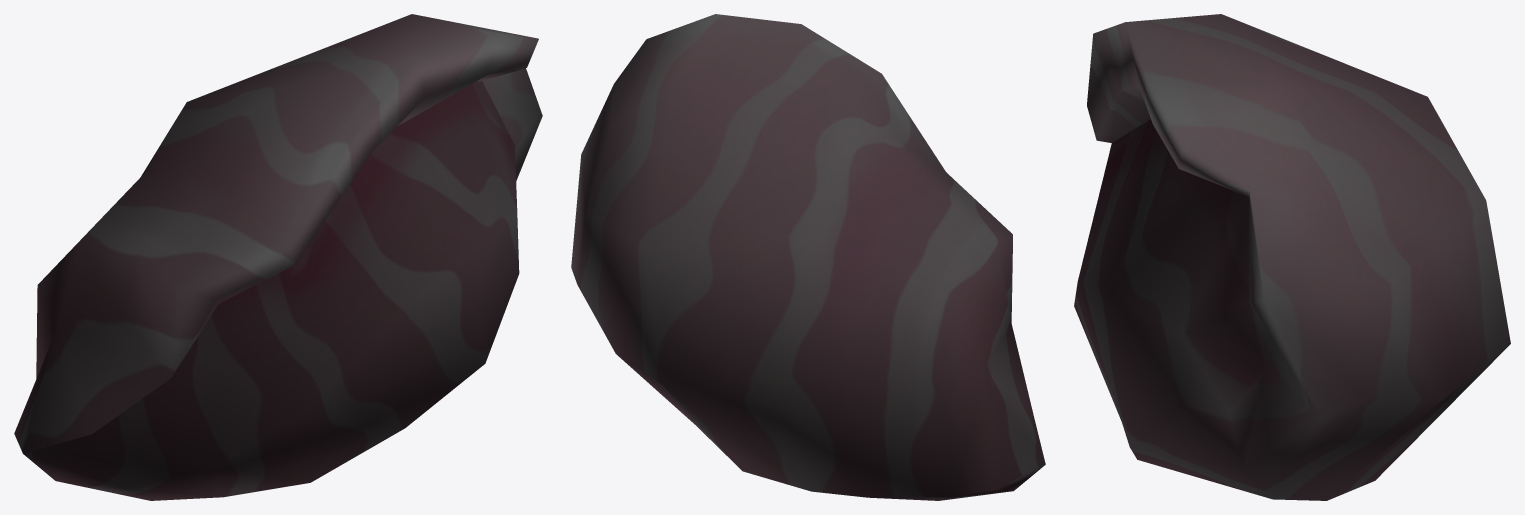
The model's file is obj_harvest_resource_slimyclam_lod1.fbx.
The picture shows the model from 3 angles, left to right: view 1: azimuth 30°, elevation 25°; view 2: azimuth 150°, elevation 25°; view 3: azimuth 270°, elevation 25°; orthographic projection. The views are drawn at different scales.
Parts seen in each view (by area): view 1: obj_harvest_resource_slimyclam; view 2: obj_harvest_resource_slimyclam; view 3: obj_harvest_resource_slimyclam.
Boxes of the visible parts, left/top/right/bottom form: obj_harvest_resource_slimyclam: left=14, top=14, right=542, bottom=500; obj_harvest_resource_slimyclam: left=571, top=14, right=1045, bottom=500; obj_harvest_resource_slimyclam: left=1074, top=14, right=1510, bottom=500.
Bounding box in the file's own units: 1.89 × 1.52 × 1.17.
1 material, 1 textured.
